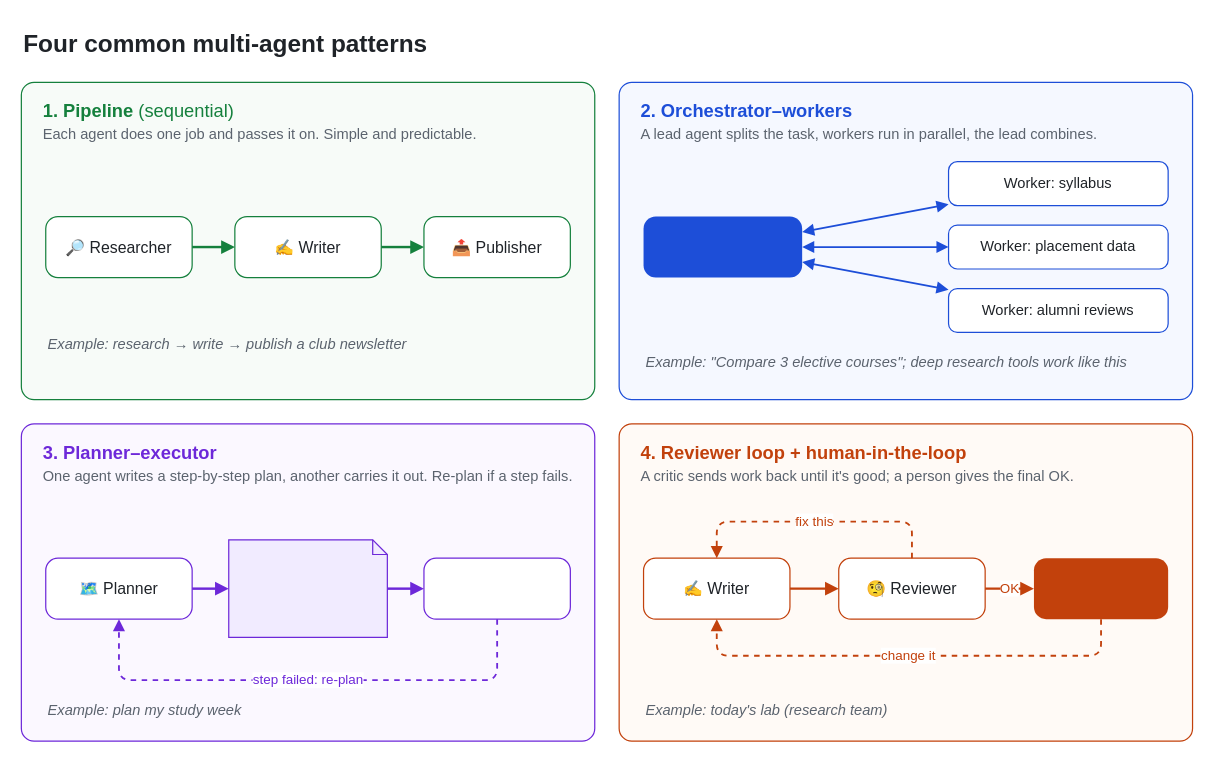
The diagram is 1214 pixels wide and 763 high, and some of its shapes have lost their labels. Each missing label, with the centre of its shape:
1. Check exam dates 2. Check lab slots 3. Book library rooms: (x=307, y=588)
⚙️ Executor: (x=496, y=588)
🙋 Human: (x=1100, y=588)
🧭 Orchestrator: (x=722, y=246)
